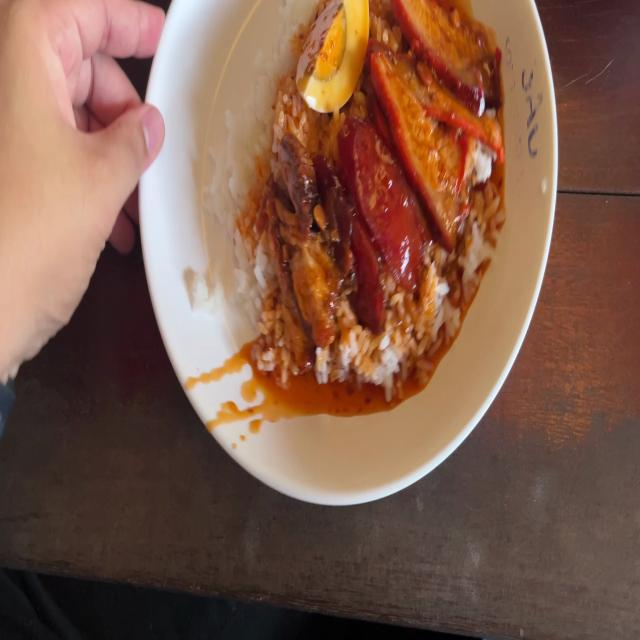01boiled_egg: (299, 0, 371, 106)
01chainese_sausage: (325, 124, 421, 324)
01crispy_pork: (271, 139, 326, 339)
01red_pork: (382, 0, 484, 209)
01red_pork_and_crispy_pork: (218, 0, 501, 374)
01rice: (221, 40, 275, 328), (264, 0, 294, 129)
